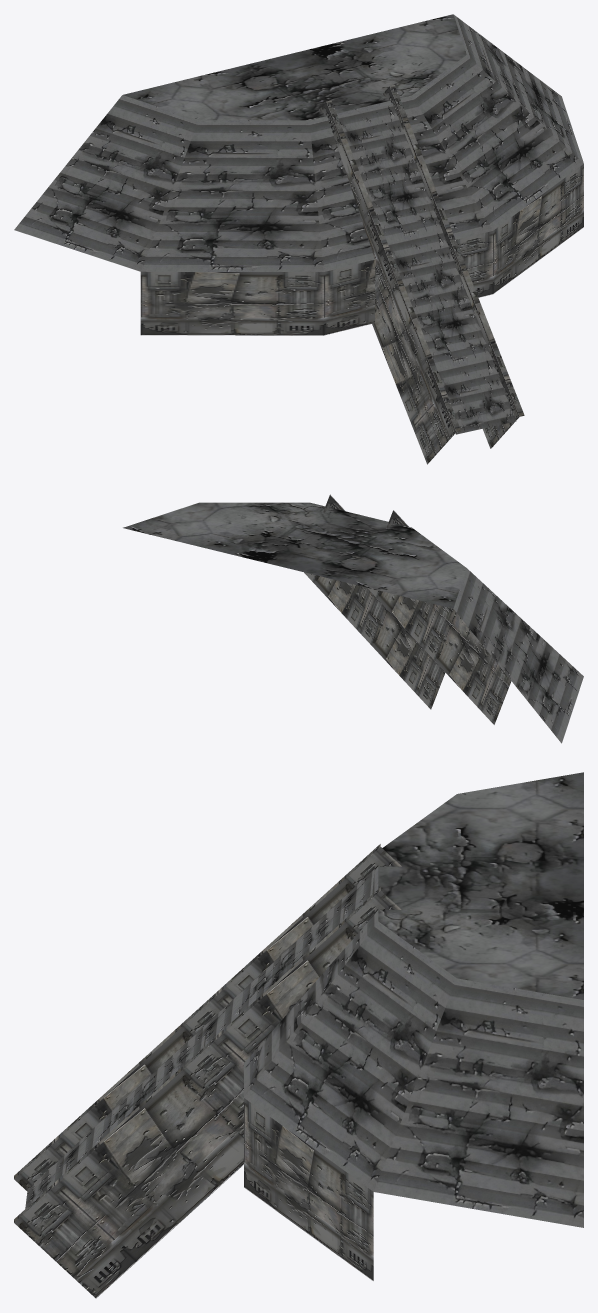
Rendered from s_main_stairs_dam_hdtex.glb.
3 renders of one model, top to bottom at view 1: azimuth 30°, elevation 25°; view 2: azimuth 150°, elevation 25°; view 3: azimuth 270°, elevation 25°, orthographic. The views are drawn at different scales.
Parts seen in each view (by area): view 1: S_HC_Stairs; view 2: S_HC_Stairs; view 3: S_HC_Stairs.
Part boxes in pixels (left/top/right/bottom): S_HC_Stairs: left=14, top=14, right=583, bottom=464; S_HC_Stairs: left=123, top=494, right=583, bottom=743; S_HC_Stairs: left=14, top=772, right=583, bottom=1298.
Bounding box in the file's own units: 47.49 × 23.98 × 30.34.
Materials: 3 (3 with a texture image).
